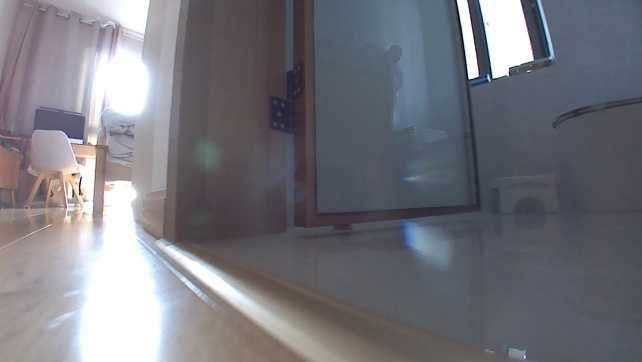door_anno_part: (170, 0, 481, 234)
toilet_part: (550, 90, 642, 213)
